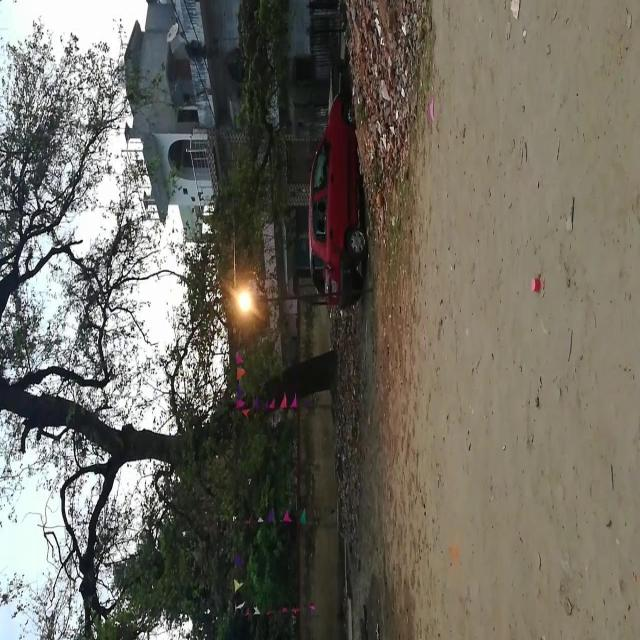other: (226, 268, 265, 338)
